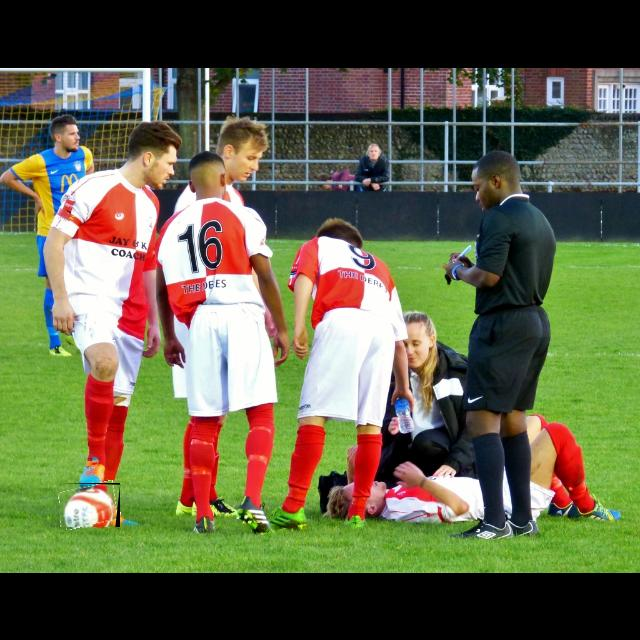Football: (60, 483, 120, 527)
